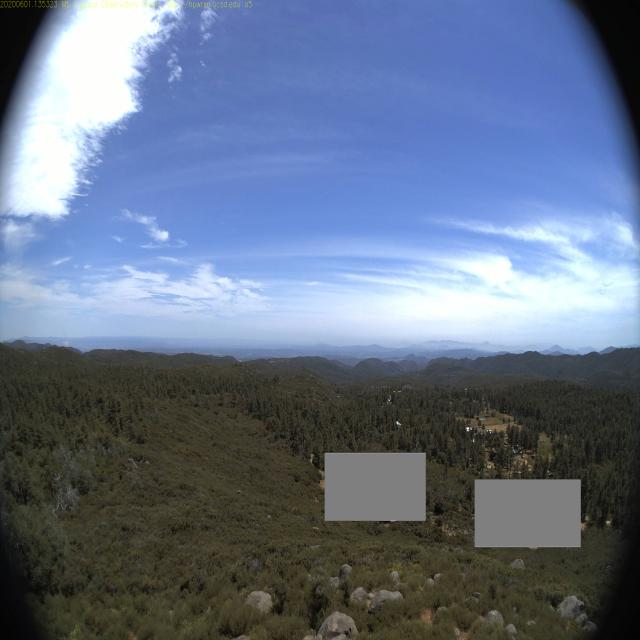smoke: (56, 328, 74, 354)
